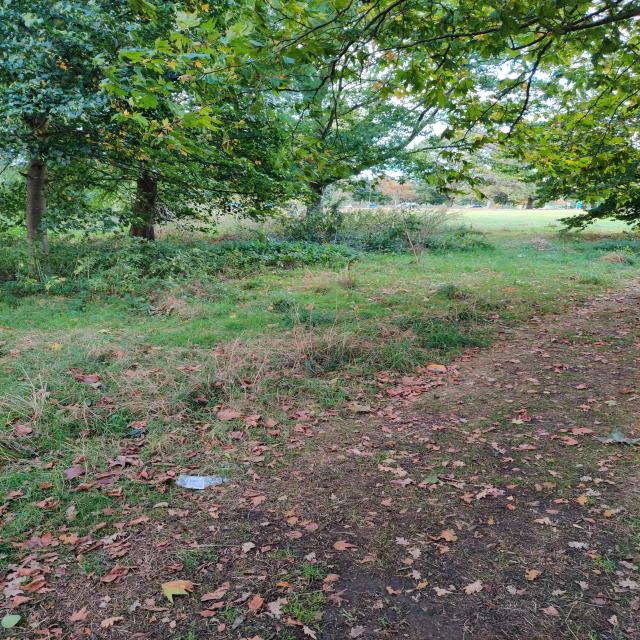litter: (172, 473, 232, 491)
